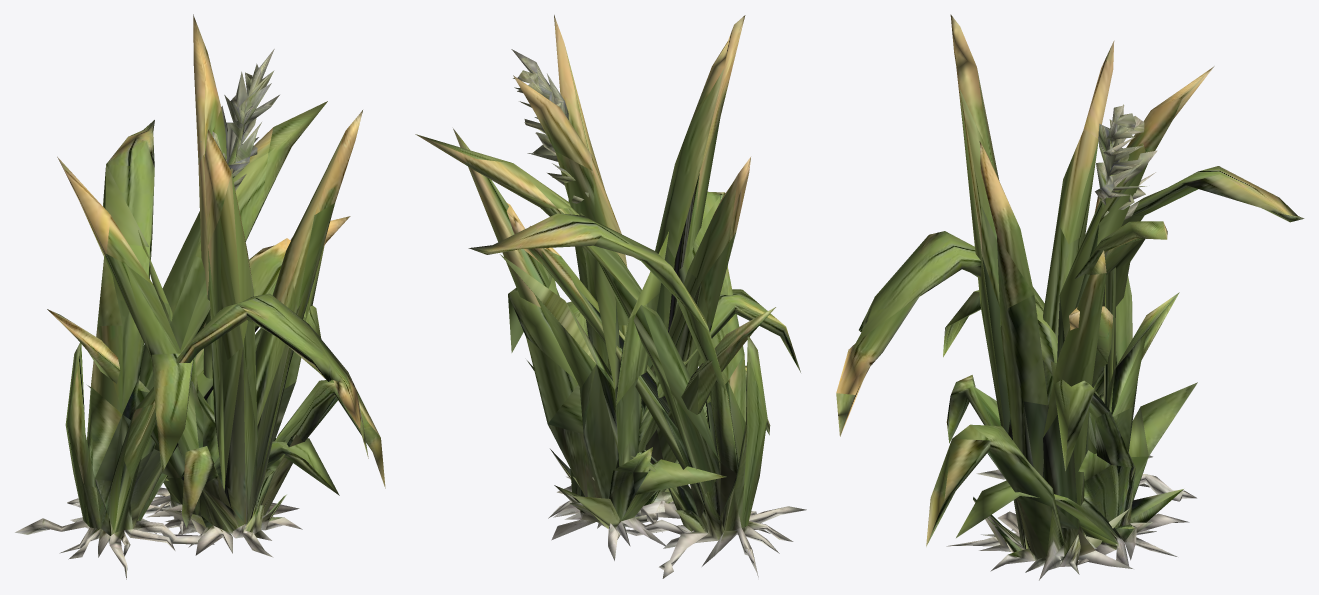
The model's file is cim.glb.
The picture shows the model from 3 angles, left to right: view 1: azimuth 30°, elevation 25°; view 2: azimuth 150°, elevation 25°; view 3: azimuth 270°, elevation 25°; orthographic projection. The views are drawn at different scales.
Visible parts, largest first — view 1: dik, egik, basak; view 2: egik, basak, dik; view 3: dik, basak, egik.
Boxes of the visible parts, bbox=[...] form: dik: bbox=[47, 14, 385, 557]; egik: bbox=[15, 101, 368, 579]; basak: bbox=[87, 49, 339, 534]; egik: bbox=[415, 134, 806, 578]; basak: bbox=[500, 49, 800, 560]; dik: bbox=[453, 15, 775, 539]; dik: bbox=[926, 14, 1214, 580]; basak: bbox=[943, 104, 1197, 566]; egik: bbox=[836, 166, 1304, 530].
Size of the model in its own units: 0.7334 by 0.985 by 0.8267.
Materials: 1 (1 with a texture image).
